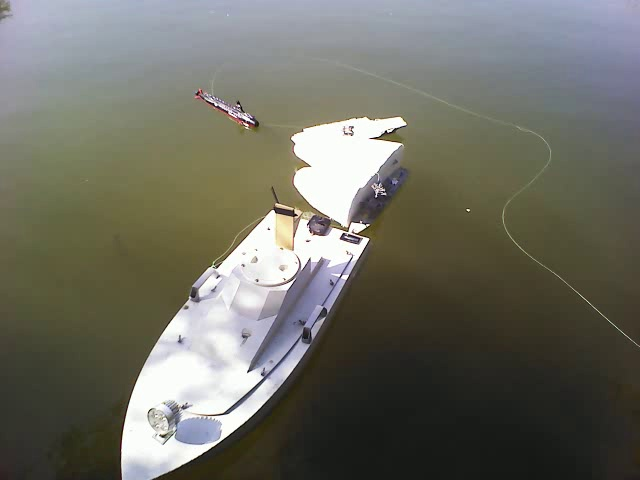aircraft_carrier: (301, 107, 411, 138)
boat: (121, 202, 372, 477)
iceberg: (292, 134, 403, 213)
submarine: (197, 82, 263, 130)
